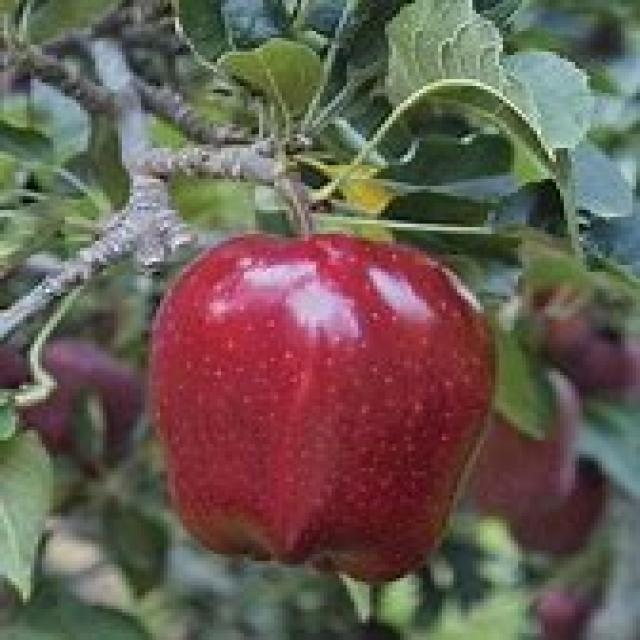apple: (153, 232, 502, 585)
